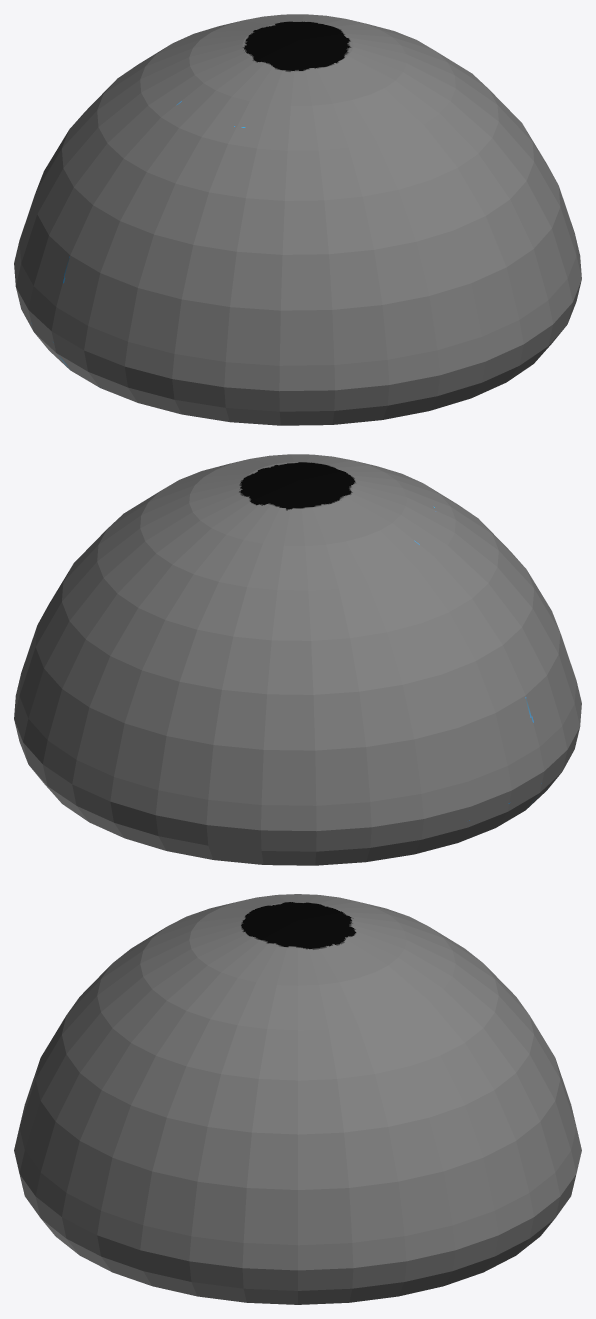
Rendered from player.obj.
The picture shows the model from 3 angles, top to bottom: view 1: azimuth 30°, elevation 25°; view 2: azimuth 150°, elevation 25°; view 3: azimuth 270°, elevation 25°; orthographic projection.
Parts seen in each view (by area): view 1: Sphere.001; view 2: Sphere.001; view 3: Sphere.001.
Part boxes in pixels (left/top/right/bottom): Sphere.001: left=14, top=14, right=581, bottom=425; Sphere.001: left=14, top=454, right=581, bottom=865; Sphere.001: left=14, top=894, right=581, bottom=1304.
Bounding box in the file's own units: 2 × 1.16 × 2.
Materials: 1 (1 with a texture image).
